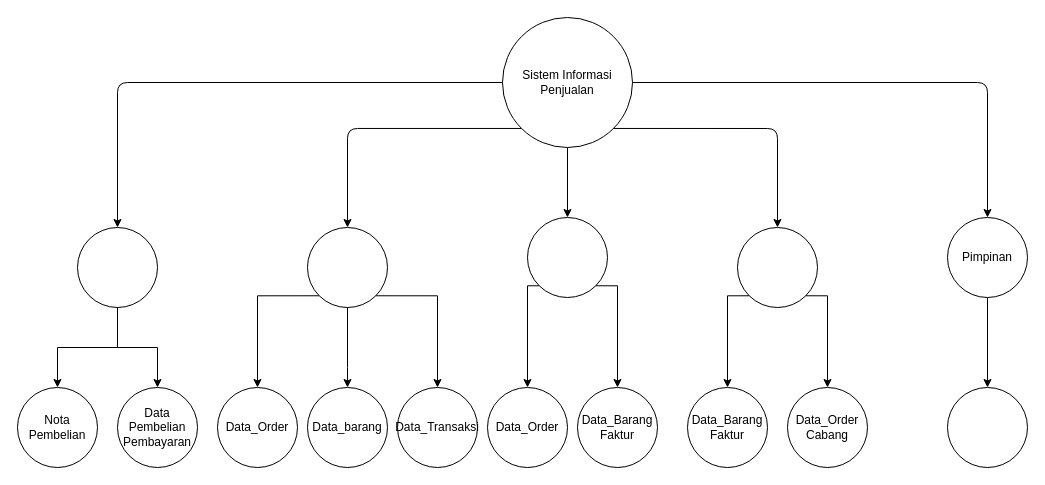
This 1045x485 diagram has some shape labels left out. The box of each missing label's shape, as (x1, y1, x2, y2) in pixels:
Bag. Keuangan: (736, 226, 818, 308)
Konsumen: (76, 226, 158, 308)
Laporan: (946, 386, 1028, 468)
Pegawai: (306, 226, 388, 308)
Supplier: (526, 216, 608, 298)
